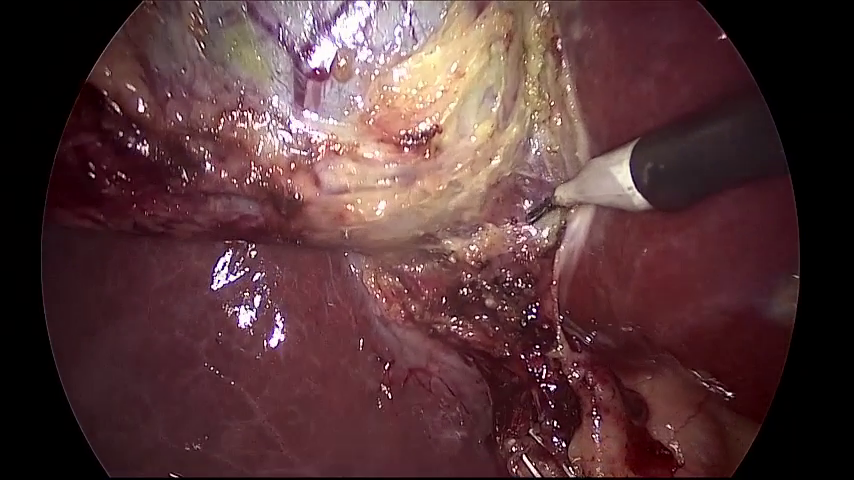lhook: (525, 84, 790, 225)
